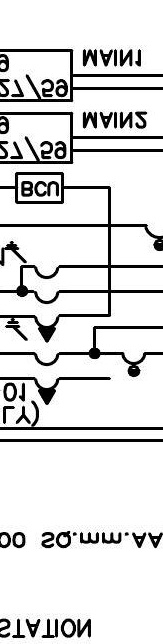BCU: (14, 171, 65, 205)
